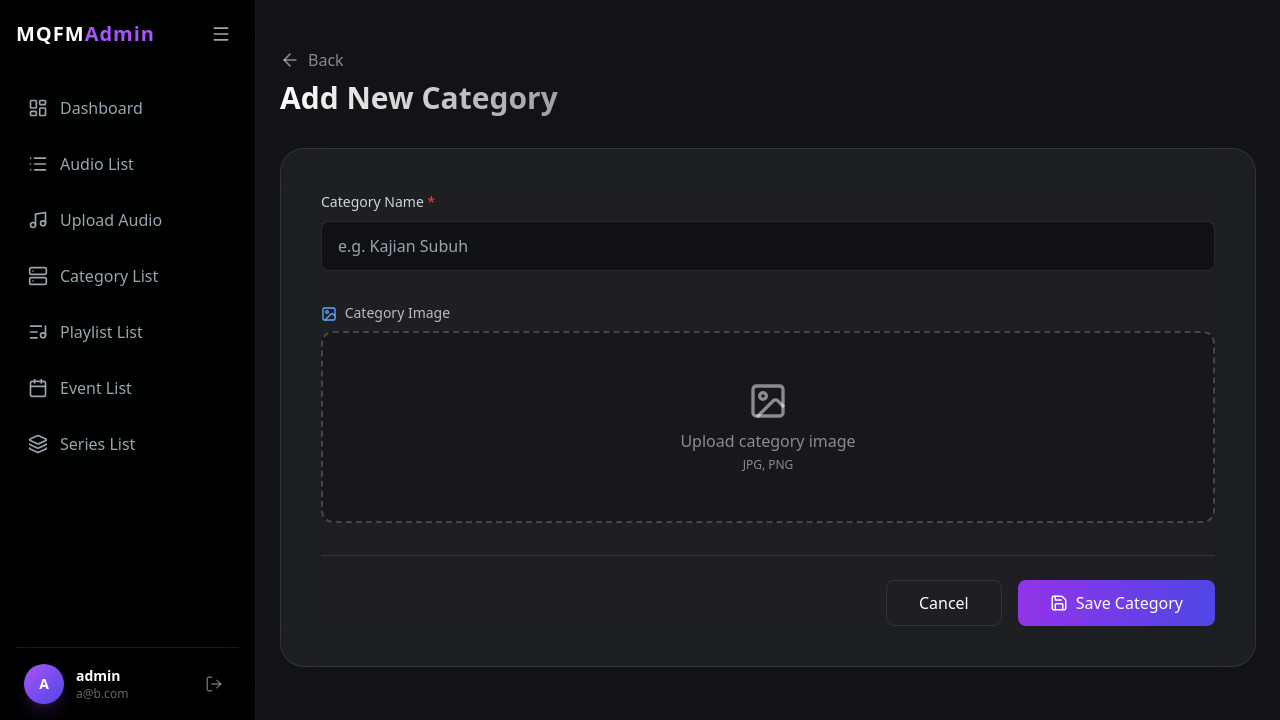
CategoryCreatePage Integration › should show error on failure
Type "Dup" into the field with placeholder "e.g. Kajian Subuh" at (768, 246), box [321,221,1215,271]
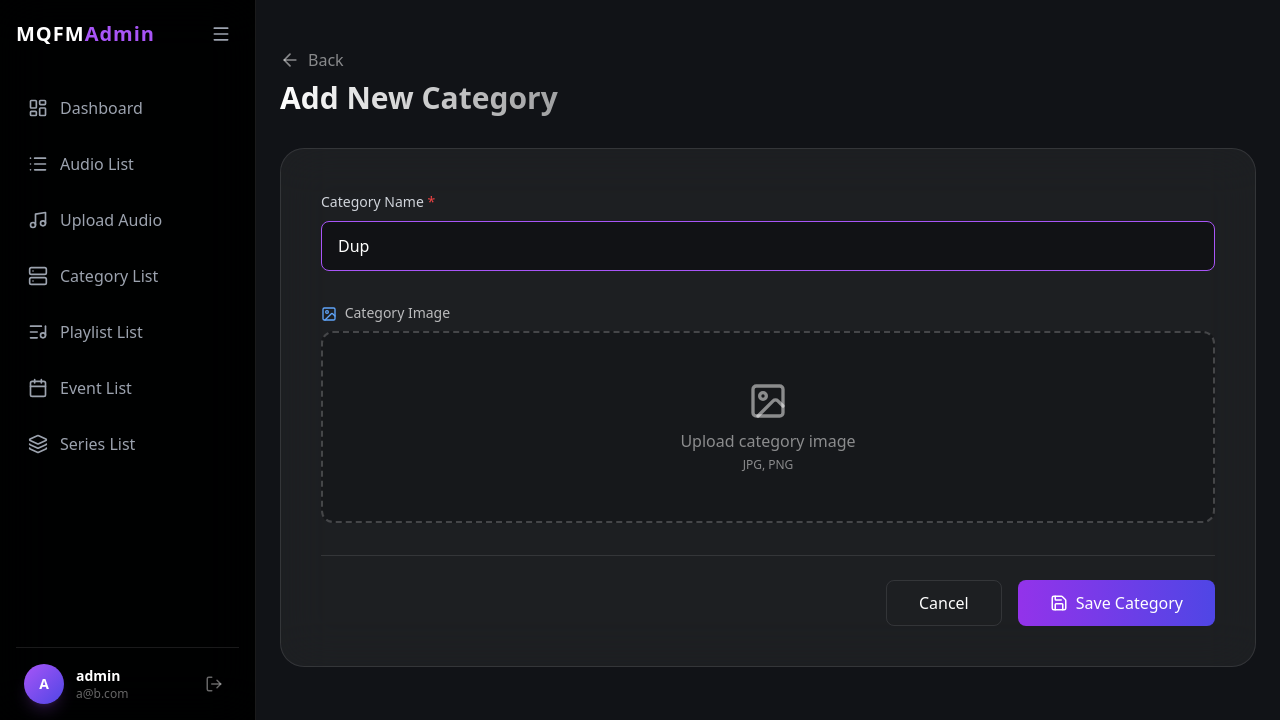
Click the button "Save Category" at (1116, 603), box [1018,580,1215,626]
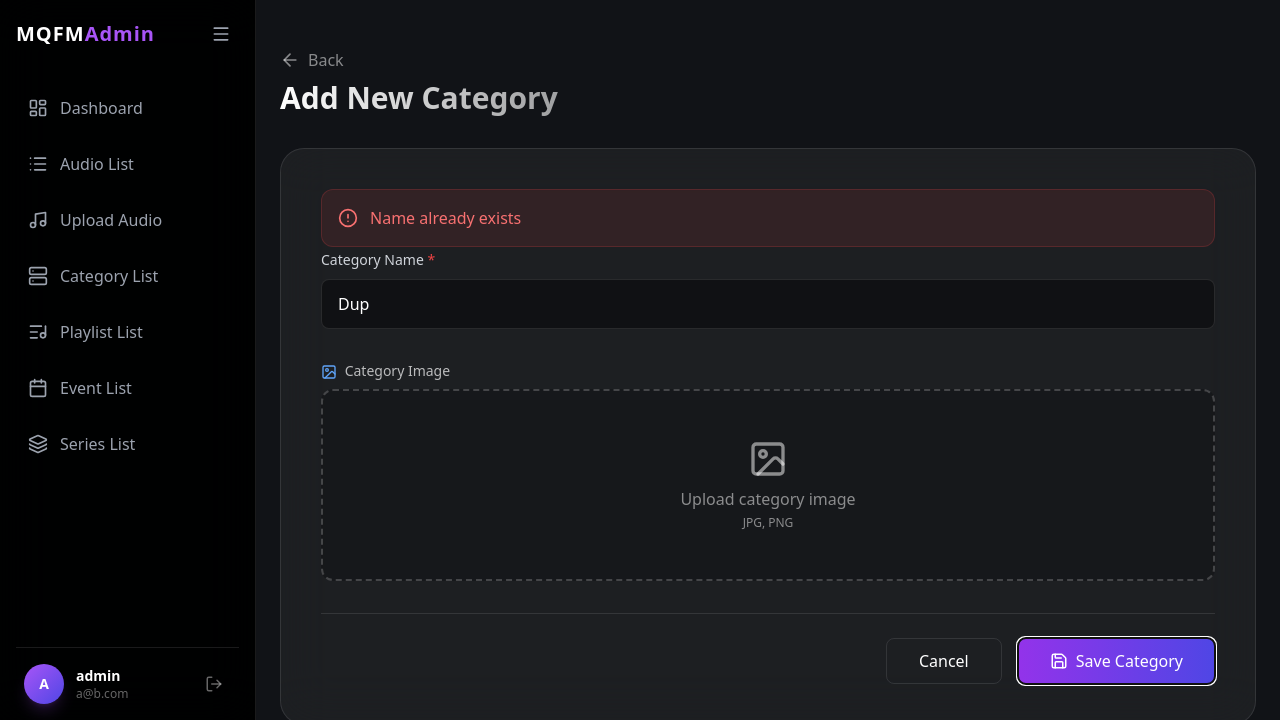
Expected: the text "Name already exists" is shown, [370,206,521,230]
